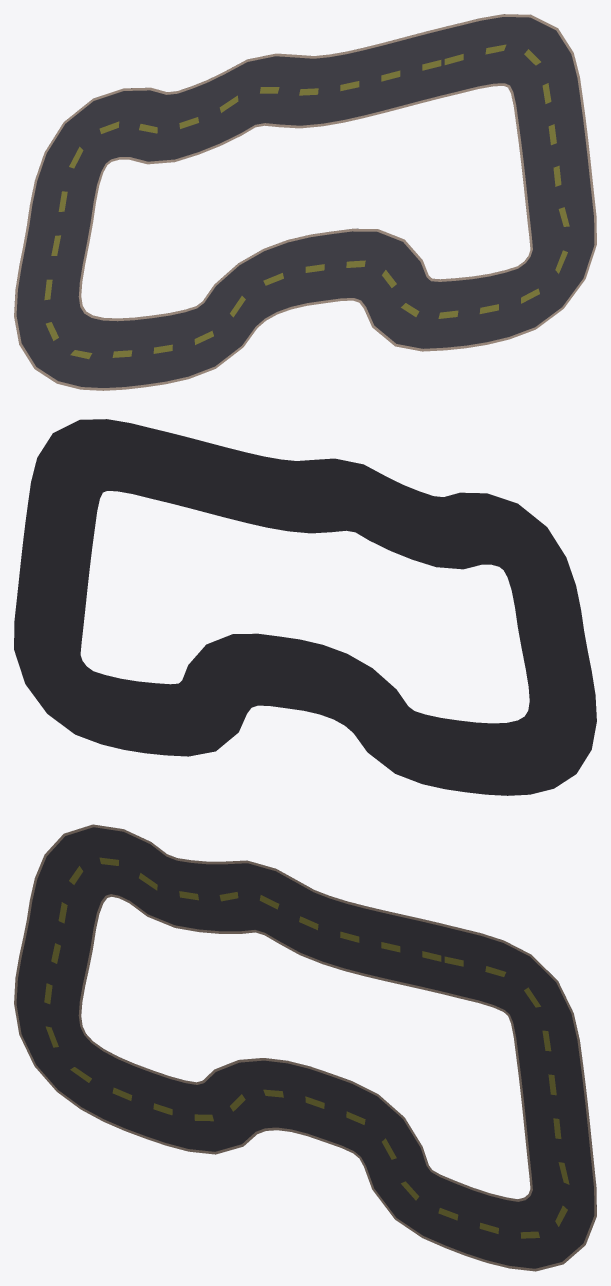
Rendered from track.obj.
The picture shows the model from 3 angles, top to bottom: view 1: azimuth 30°, elevation 25°; view 2: azimuth 150°, elevation 25°; view 3: azimuth 330°, elevation 25°; orthographic projection.
Bounding box in the file's own units: 9.23 × 5.22 × 0.002.
